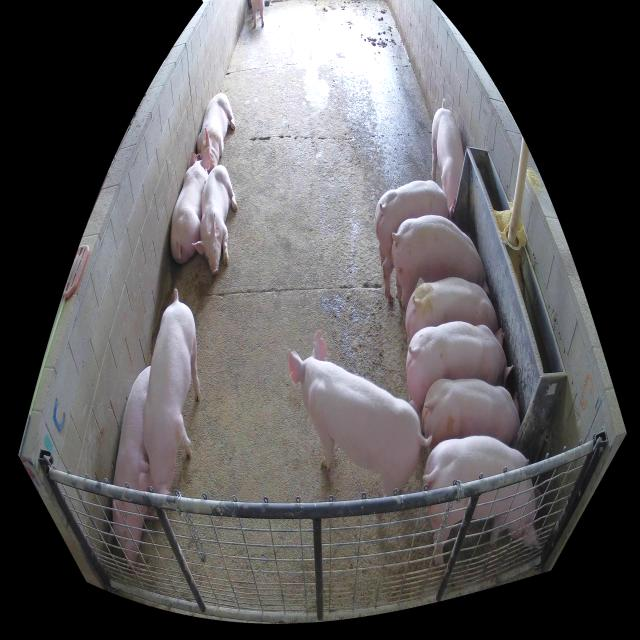pig: (288, 333, 432, 497), (424, 436, 545, 565), (137, 290, 200, 495), (406, 324, 514, 436), (108, 366, 160, 573), (375, 180, 454, 303), (391, 218, 488, 315), (422, 379, 520, 454), (406, 275, 499, 341), (192, 165, 238, 275), (171, 148, 210, 264), (431, 102, 464, 215), (196, 93, 236, 170)
